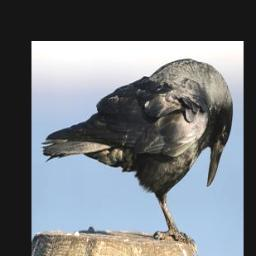Crow: (41, 57, 234, 256)
